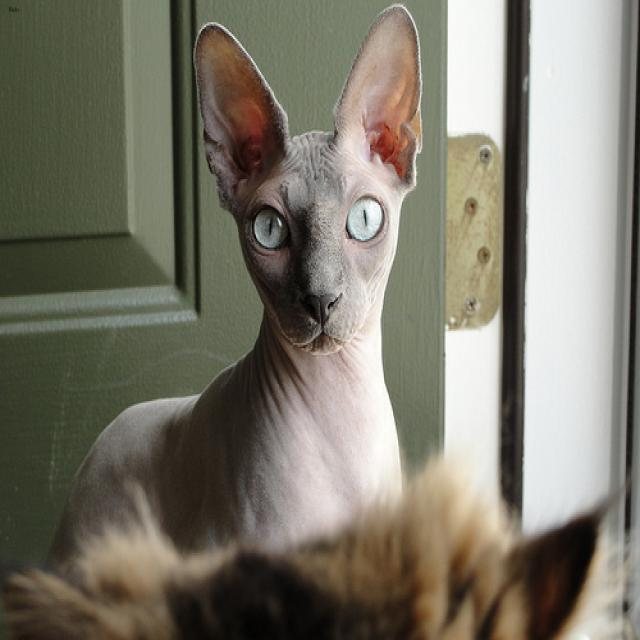Sphynx: (191, 2, 420, 352)
